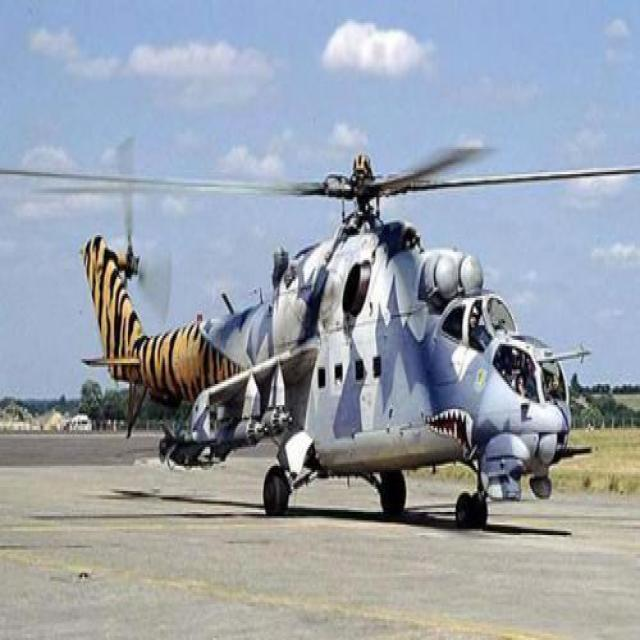MIL_HELO: (9, 138, 640, 530)
